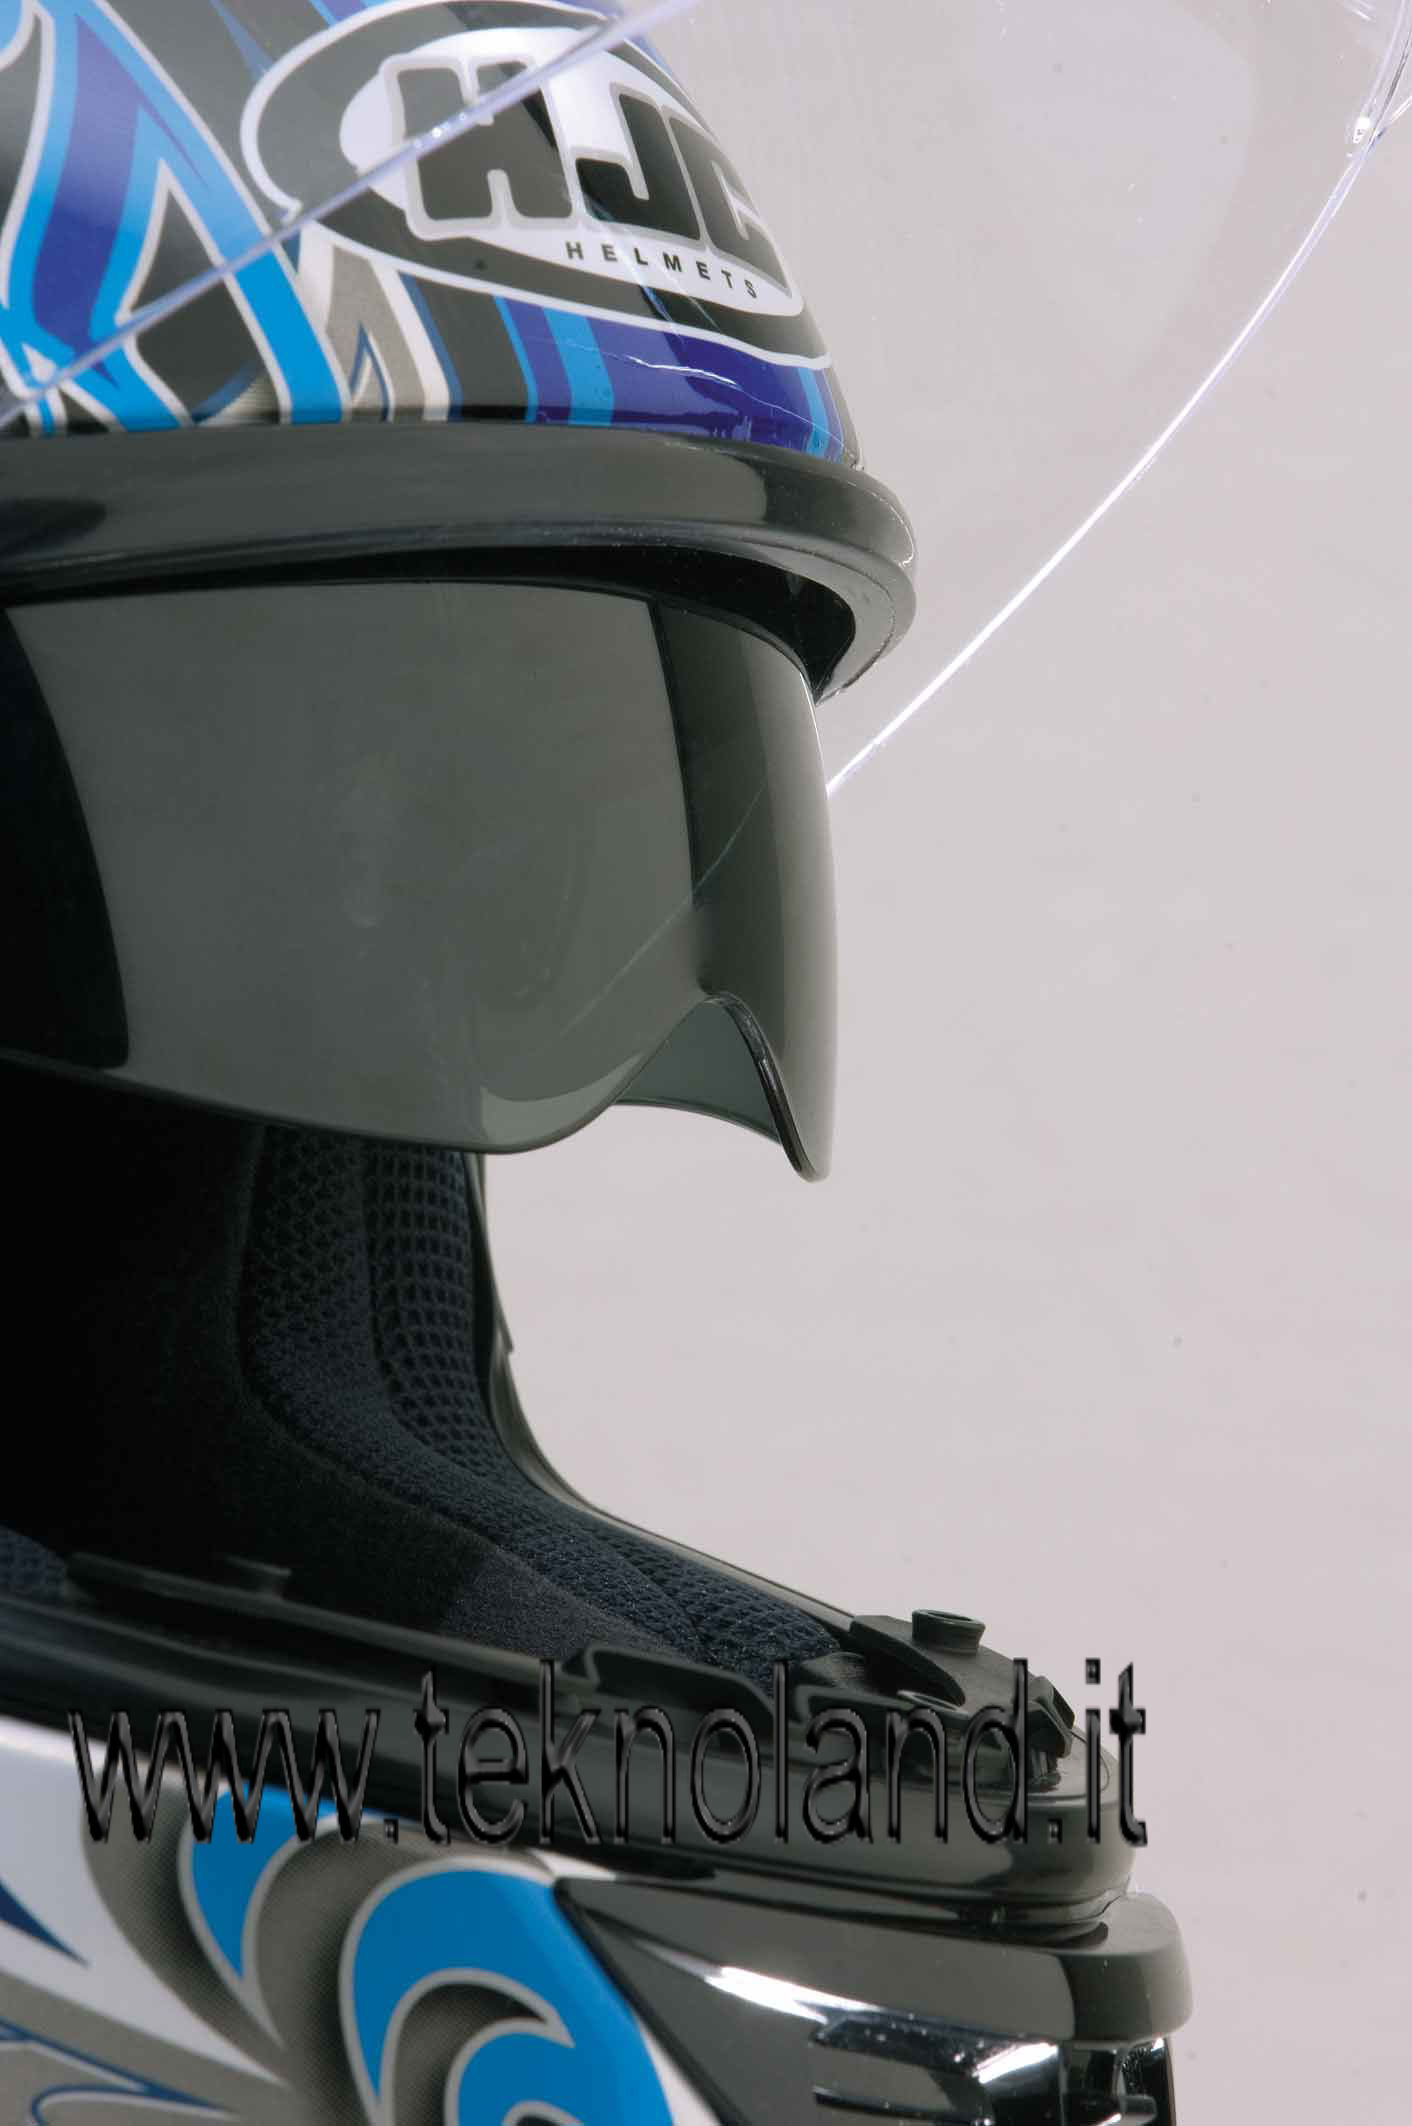helmet: (2, 6, 1242, 2109)
